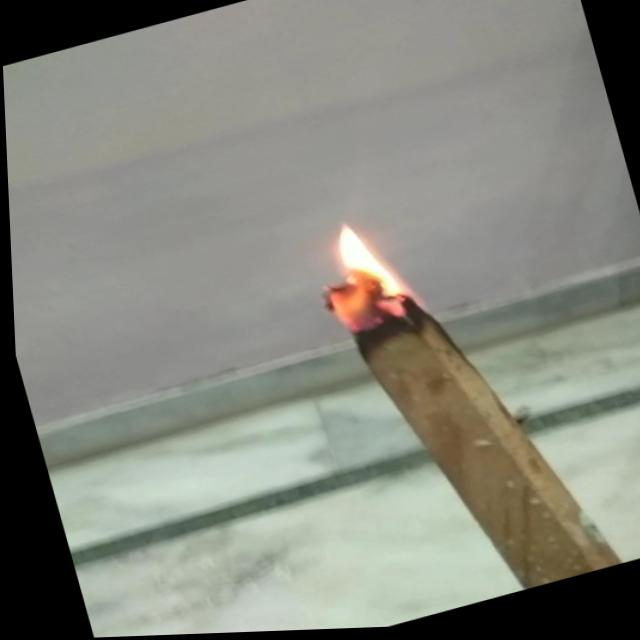fire: (285, 201, 435, 345)
